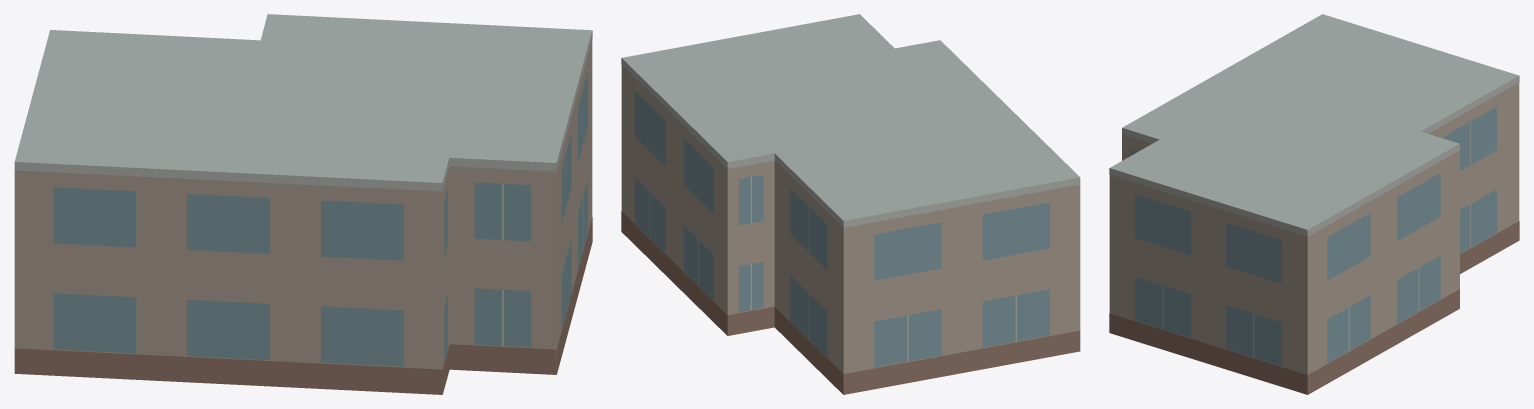
File: survey-upis-32811457.glb
The picture shows the model from 3 angles, left to right: view 1: azimuth 30°, elevation 25°; view 2: azimuth 150°, elevation 25°; view 3: azimuth 270°, elevation 25°; orthographic projection. The views are drawn at different scales.
Visible parts, largest first — view 1: survey-upis-32811457.tmp; view 2: survey-upis-32811457.tmp; view 3: survey-upis-32811457.tmp.
Boxes of the visible parts, bbox=[...] form: survey-upis-32811457.tmp: bbox=[14, 14, 592, 394]; survey-upis-32811457.tmp: bbox=[621, 14, 1080, 394]; survey-upis-32811457.tmp: bbox=[1109, 14, 1519, 394].
Size of the model in its own units: 17.14 by 6.1 by 13.75.
